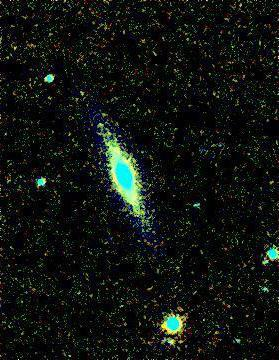star: (84, 111, 114, 141)
